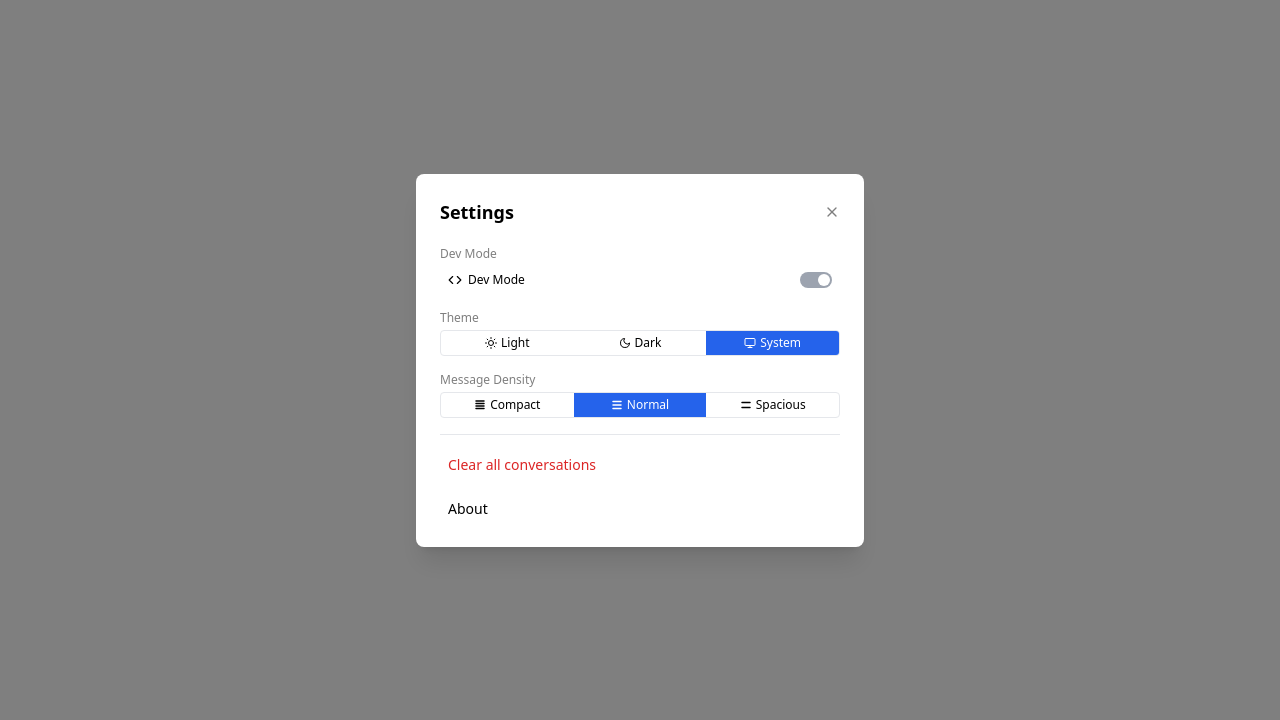
Test: ST-2: Clear all conversations › clicking clear shows confirmation dialog
This screenshot has width=1280, height=720.
What coordinates should you click on to do the following:
click the button "Clear all conversations"
I would click on:
 (522, 464)
Its box is x1=440 y1=450 x2=840 y2=478.
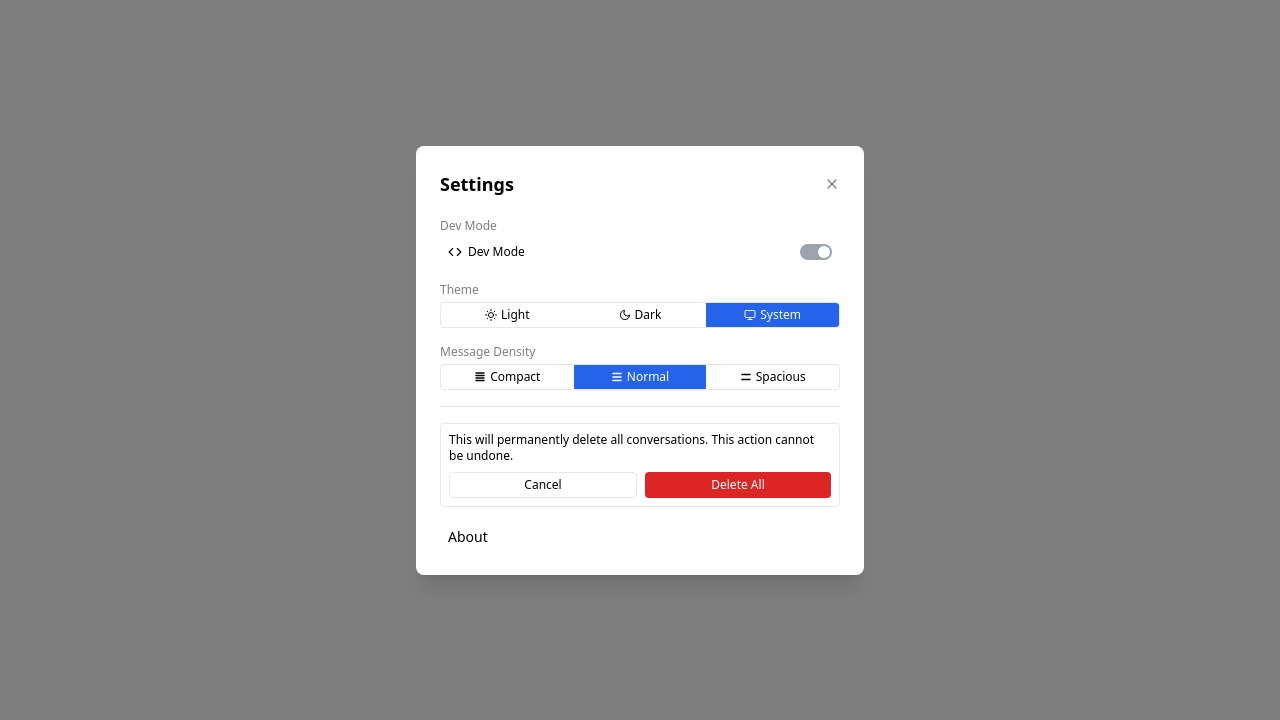
Result: the button "Delete All" is shown at x1=645 y1=472 x2=831 y2=498
Result: the button "Cancel" is shown at x1=449 y1=472 x2=637 y2=498
